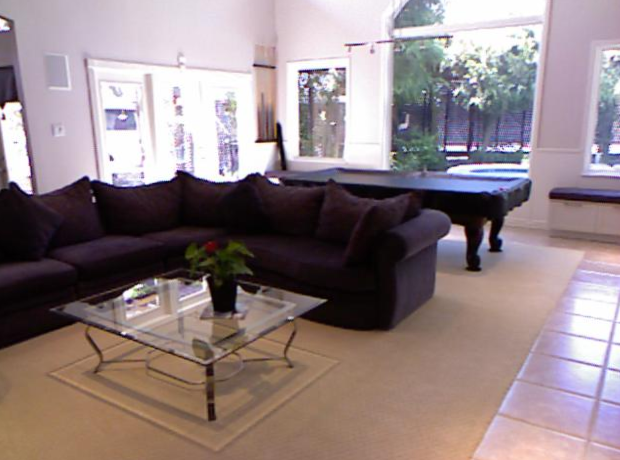couch: (0, 182, 231, 263), (234, 202, 451, 283)
table: (49, 272, 329, 370), (454, 176, 533, 273)
window: (295, 70, 342, 156), (599, 49, 620, 163)
